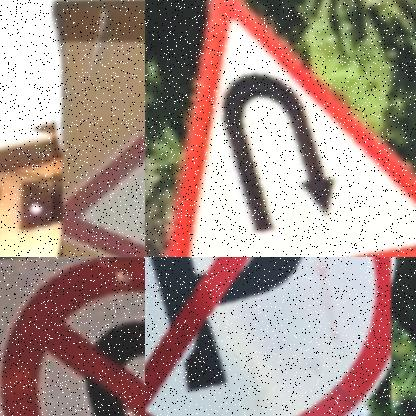No Parking: (145, 257, 391, 416)
No U-Turn: (0, 257, 145, 416)
U-Turn: (158, 0, 416, 257), (52, 0, 145, 257), (63, 132, 145, 257)
